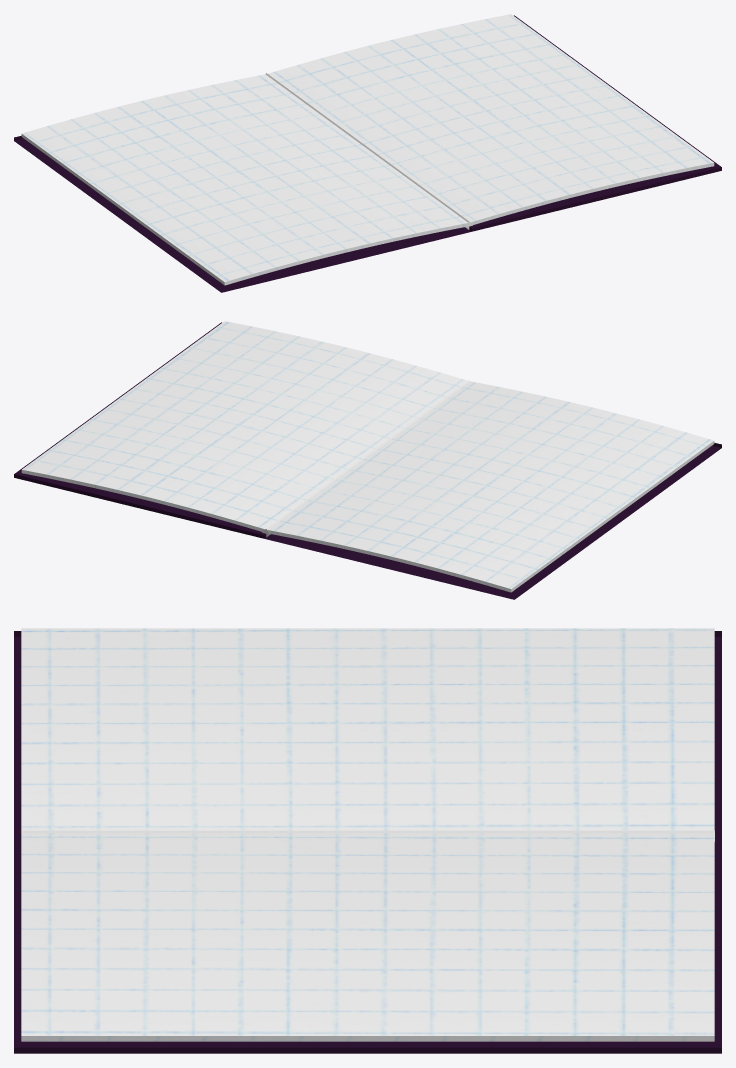
File: zeszyt.fbx
The picture shows the model from 3 angles, top to bottom: view 1: azimuth 30°, elevation 25°; view 2: azimuth 150°, elevation 25°; view 3: azimuth 270°, elevation 25°; orthographic projection. The views are drawn at different scales.
Visible parts, largest first — view 1: Cube.003; view 2: Cube.003; view 3: Cube.003.
Boxes of the visible parts, x1,y1,x2,y2 form: Cube.003: (14, 14, 721, 292); Cube.003: (14, 321, 721, 599); Cube.003: (14, 628, 721, 1053).
Bounding box in the file's own units: 650 × 14.16 × 467.
